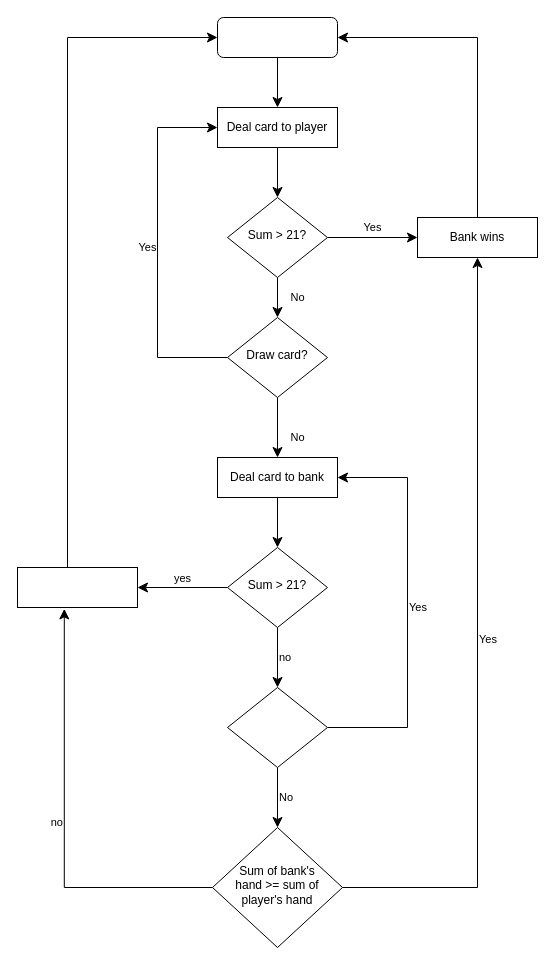
The diagram is 555 pixels wide and 965 high, and some of its shapes have lost their labels. The shapes that lost their labels are listed below. From the top down, each one's centre as x and y in pixels, then its label:
At (x=277, y=37): "Start".
At (x=77, y=587): "Player wins".
At (x=277, y=727): "Sum < 17?".
